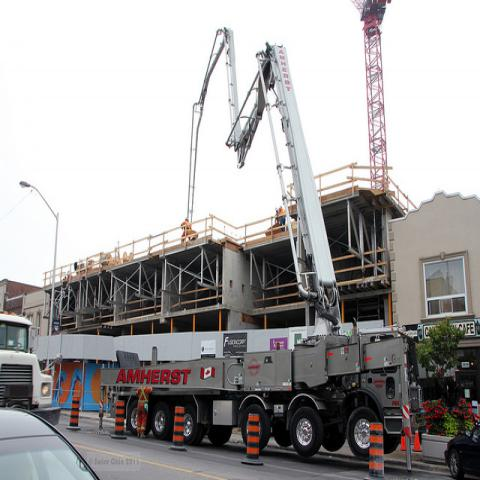car: (0, 407, 99, 475), (443, 424, 480, 480)
truck: (100, 333, 421, 455), (0, 312, 63, 428)
